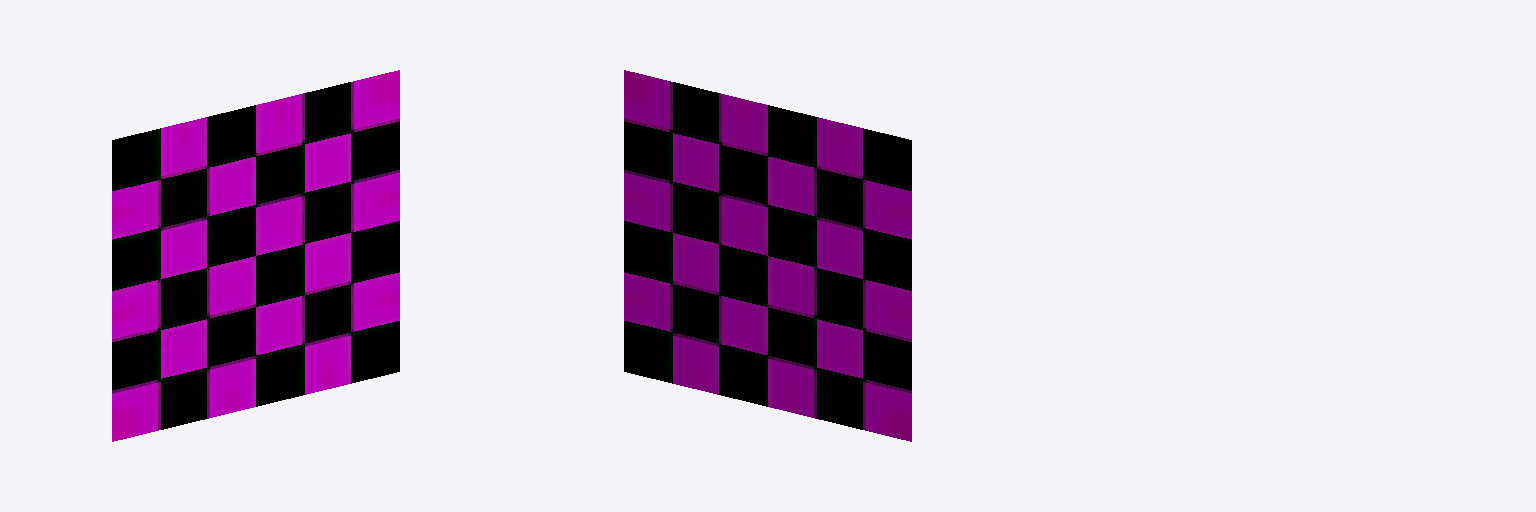
3 renders of one model, left to right at view 1: azimuth 30°, elevation 25°; view 2: azimuth 150°, elevation 25°; view 3: azimuth 270°, elevation 25°, orthographic.
Parts seen in each view (by area): view 1: Plane_Plane.001; view 2: Plane_Plane.001; view 3: none.
Boxes of the visible parts, x1,y1,x2,y2 form: Plane_Plane.001: [112, 70, 399, 441]; Plane_Plane.001: [624, 70, 911, 441].
Size of the model in its own units: 20 by 20 by 0.
1 materials, 1 textured.